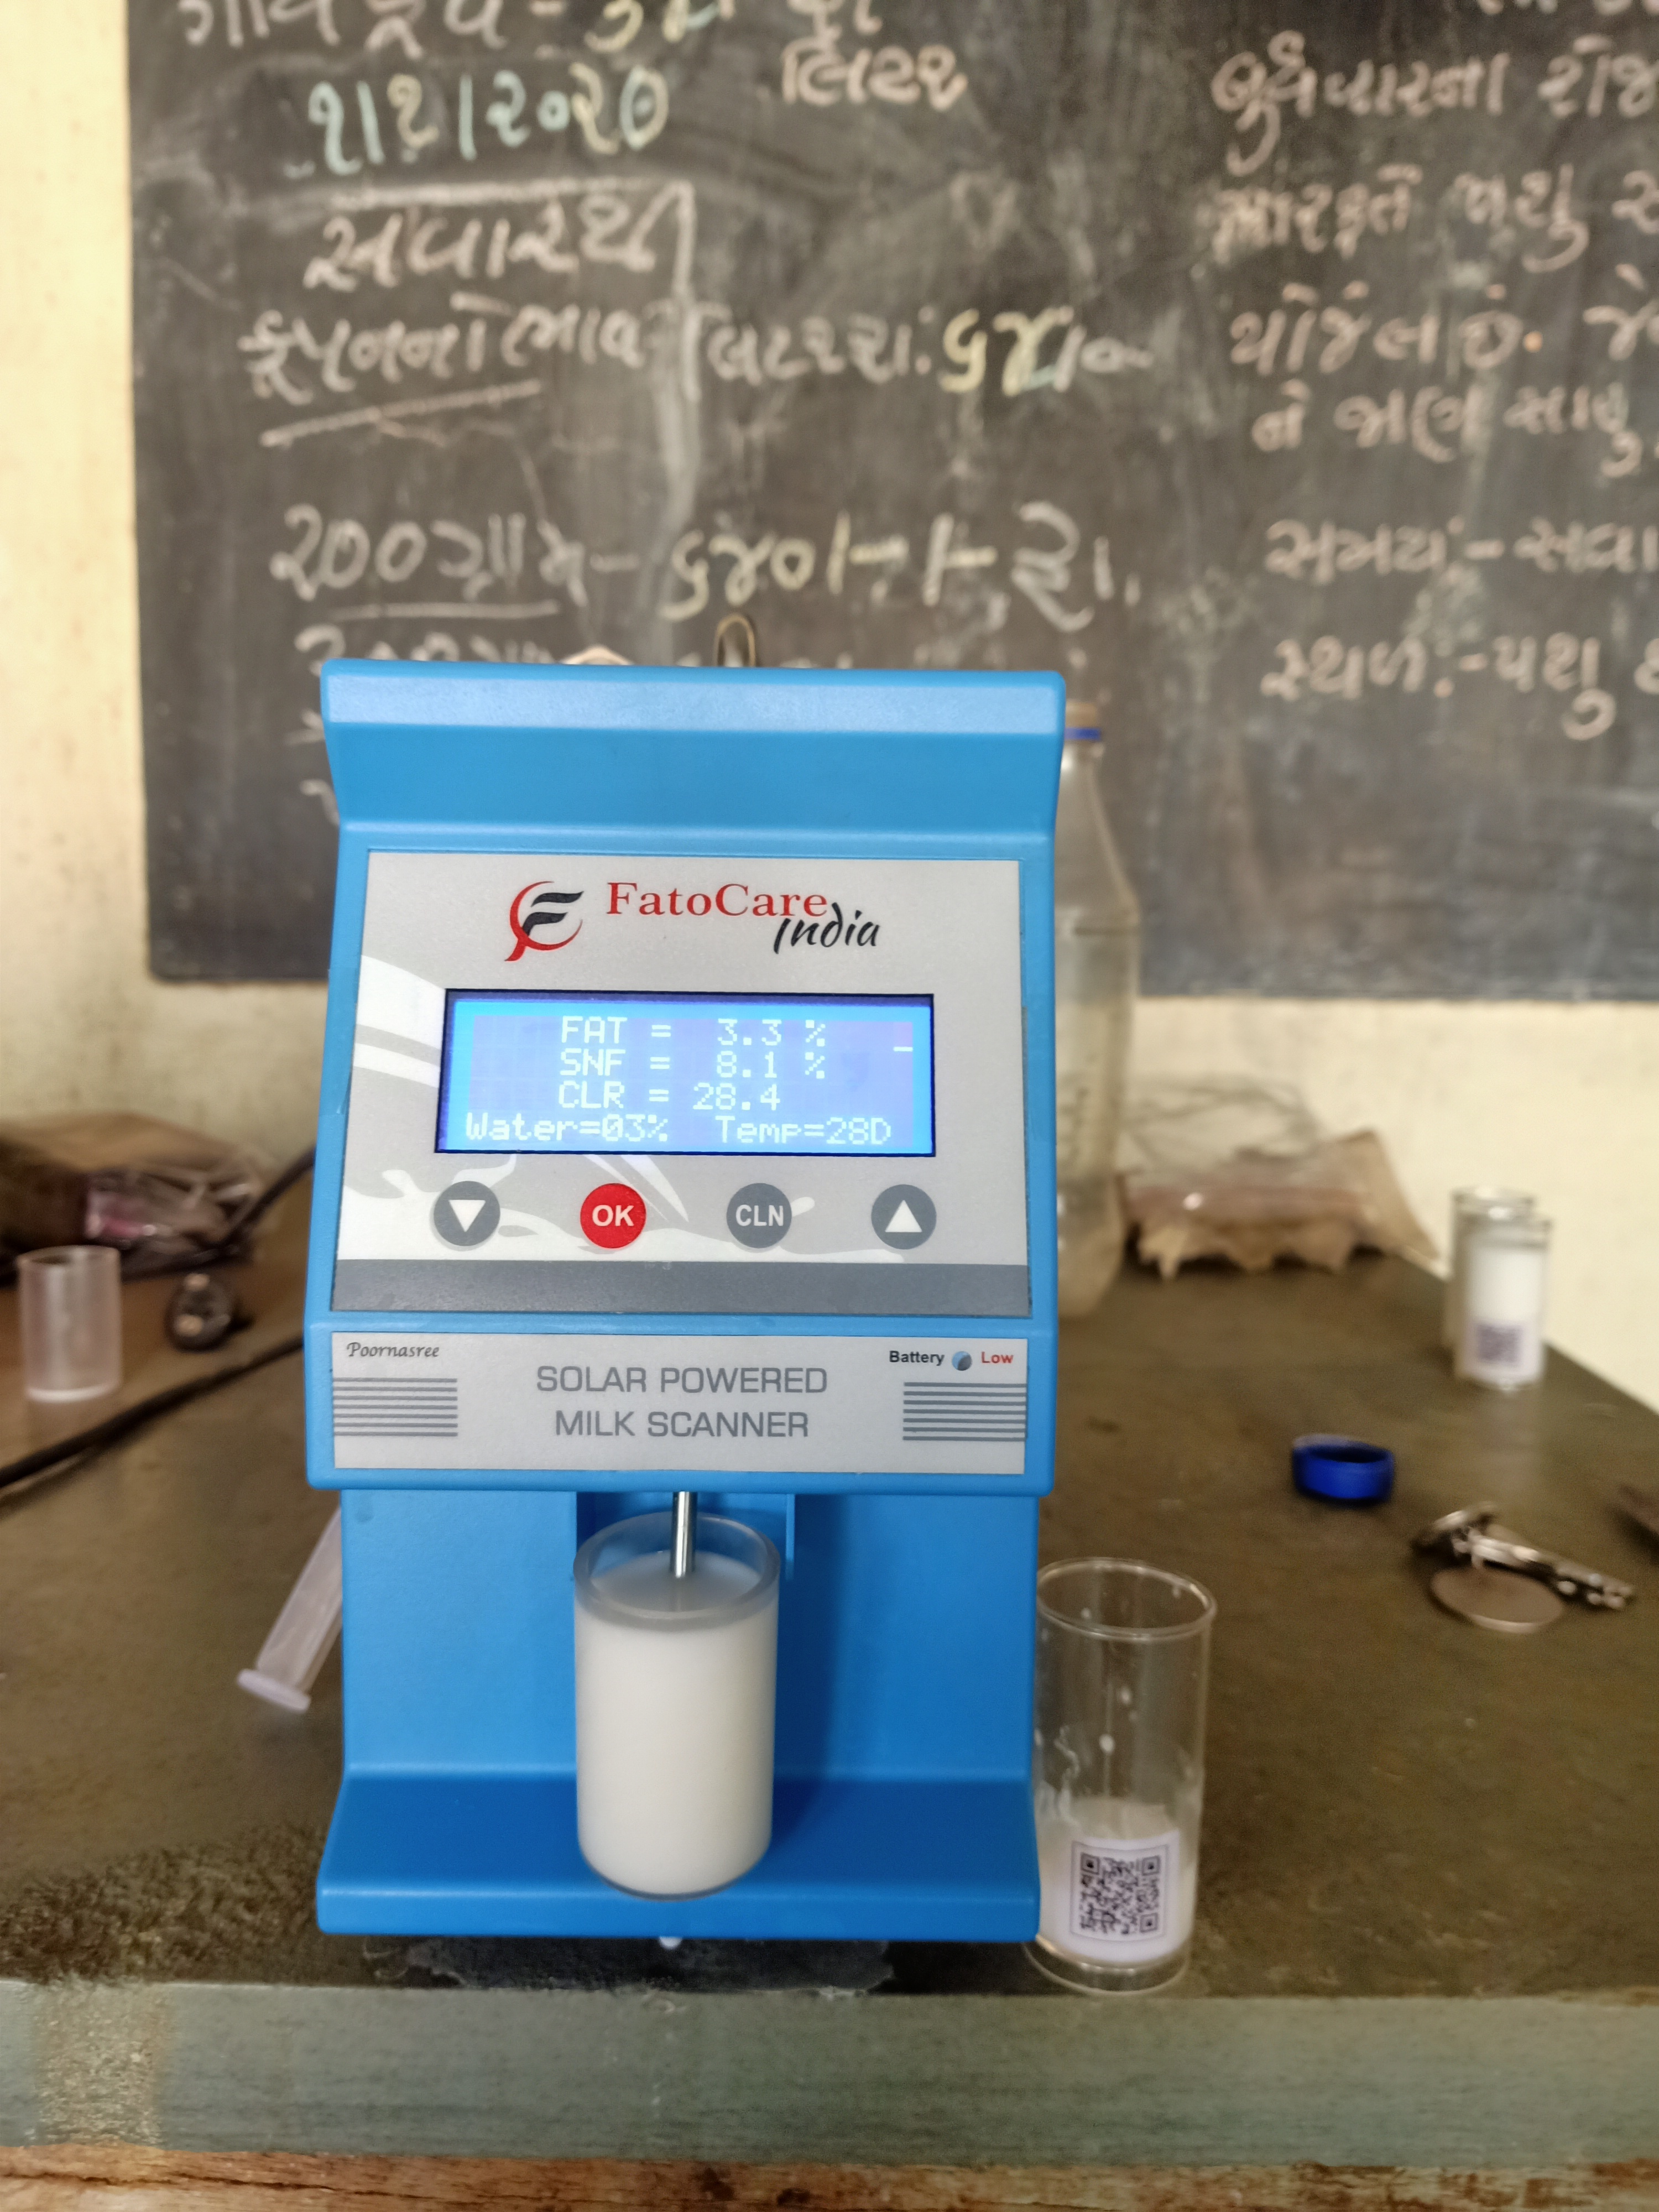lcd: (406, 972, 955, 1195)
qr: (1066, 1832, 1187, 1963)
